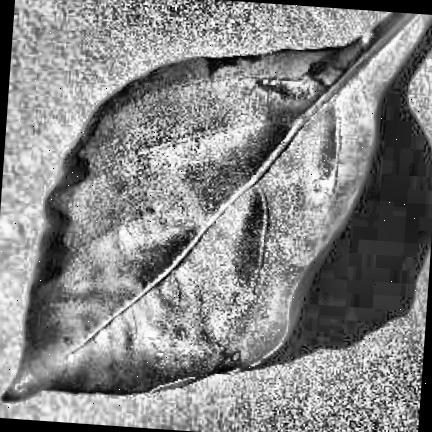leaf: (4, 12, 432, 399)
